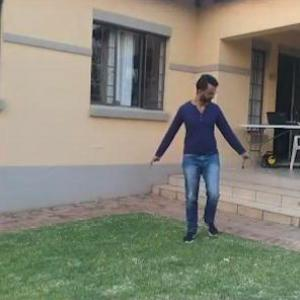land: (142, 62, 259, 254)
